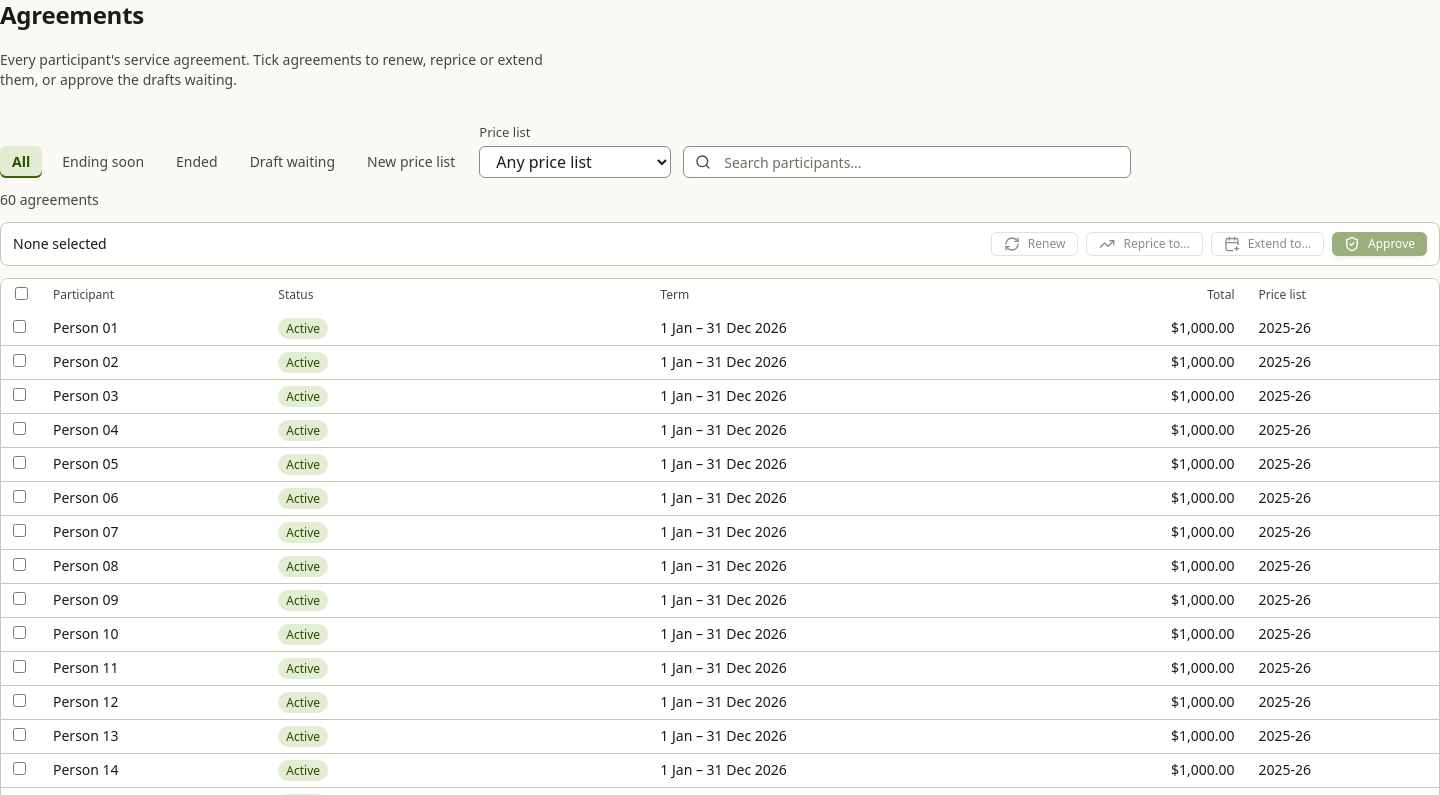
Test: AgreementsPage bulk actions (real hook) › keeps the dialog open with the reason when the first request is refused
Check: the text "Person 01" is shown, box x1=53 y1=318 x2=119 y2=337
Click the checkbox named "Select row p1" at x=20, y=326, box x1=13 y1=320 x2=26 y2=333
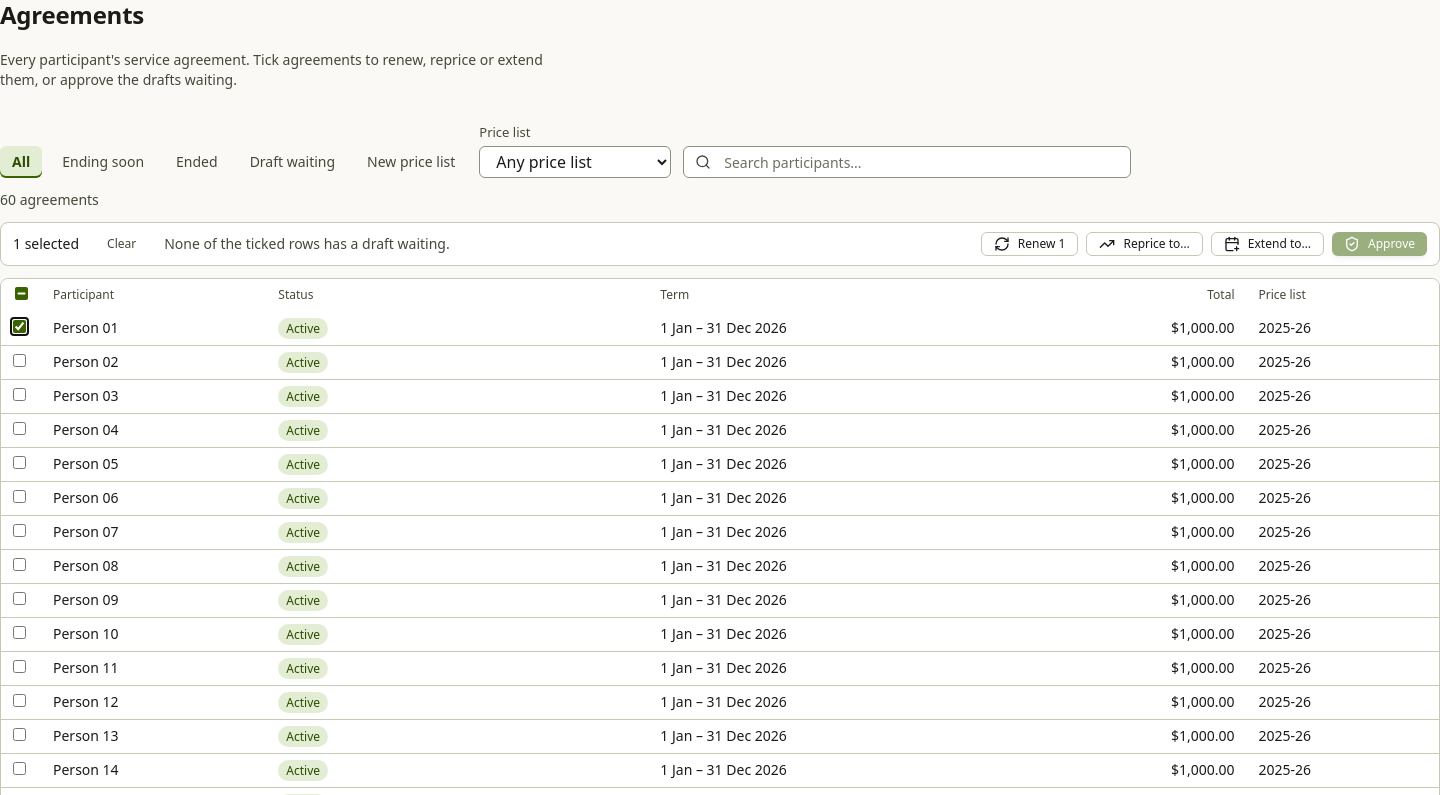
Click the button "Renew 1" at x=1030, y=244, box x1=981 y1=232 x2=1078 y2=256
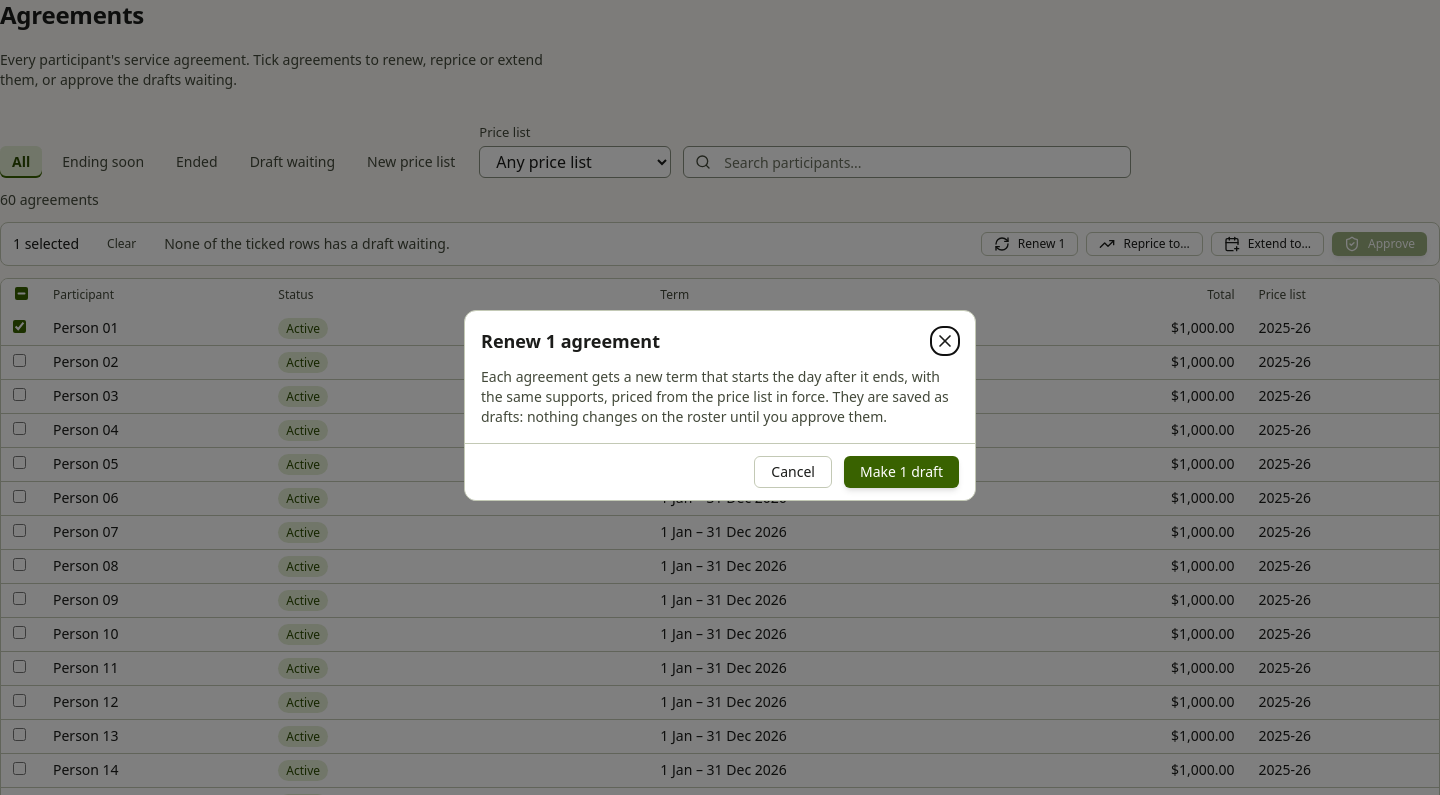
Click the button "Make 1 draft" at x=901, y=472, box x1=844 y1=456 x2=959 y2=488
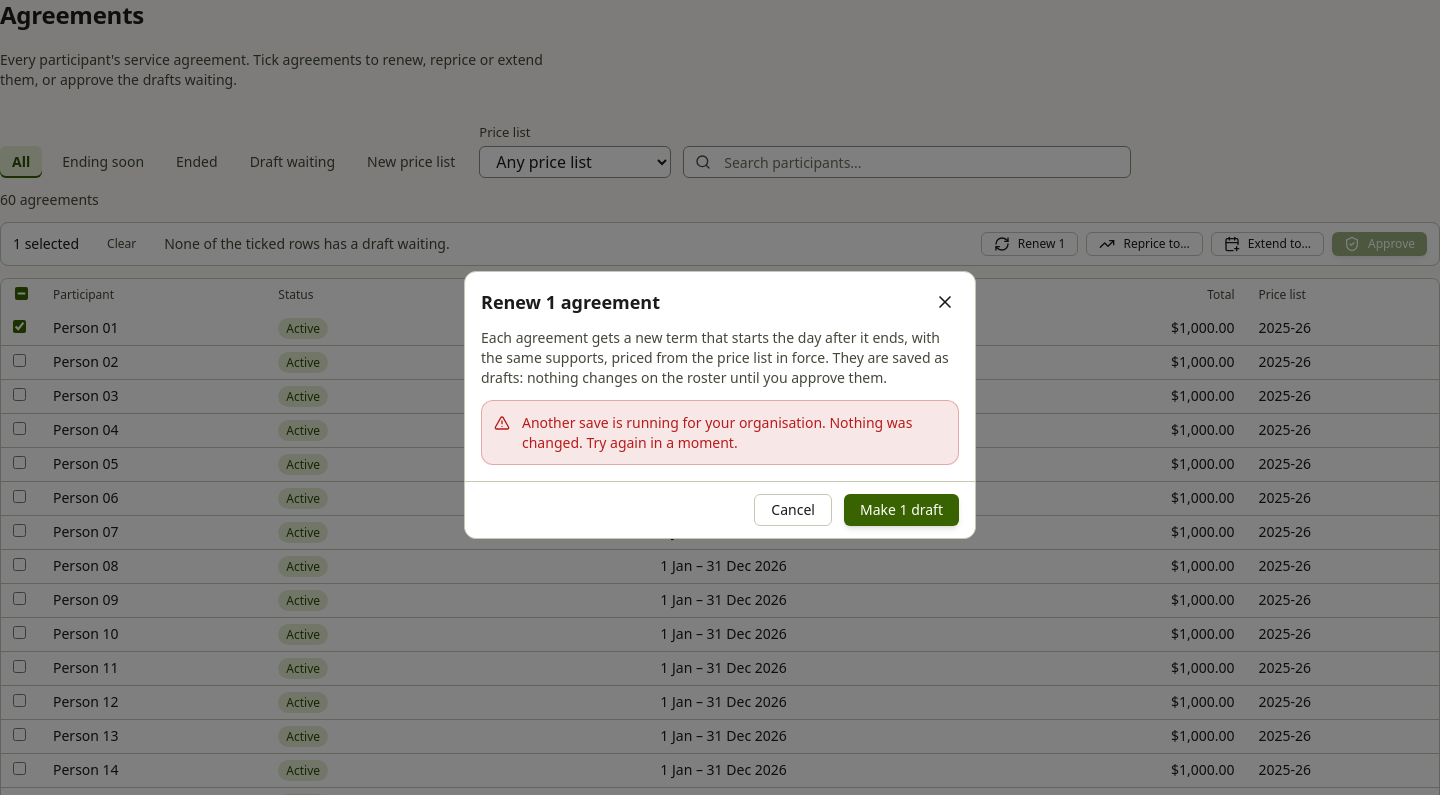
Check: the dialog is shown, box x1=464 y1=271 x2=976 y2=539
Check: the text "Another save is running for your organisation" is shown, box x1=522 y1=413 x2=912 y2=452
